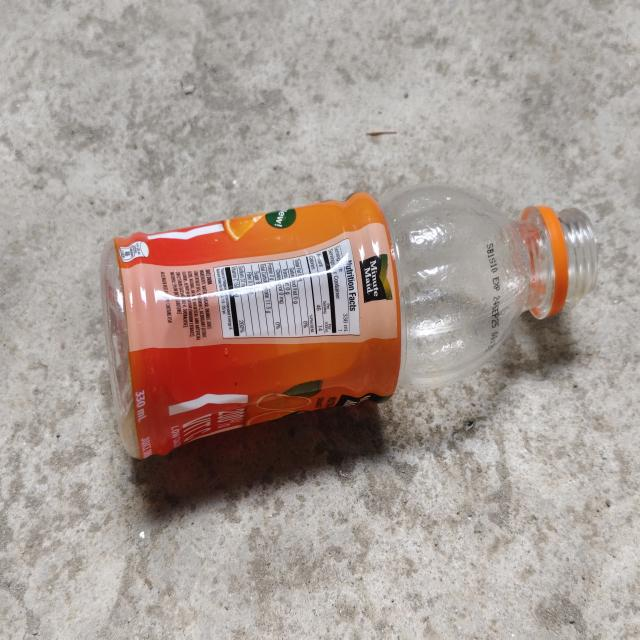Bottle: (101, 186, 598, 459)
